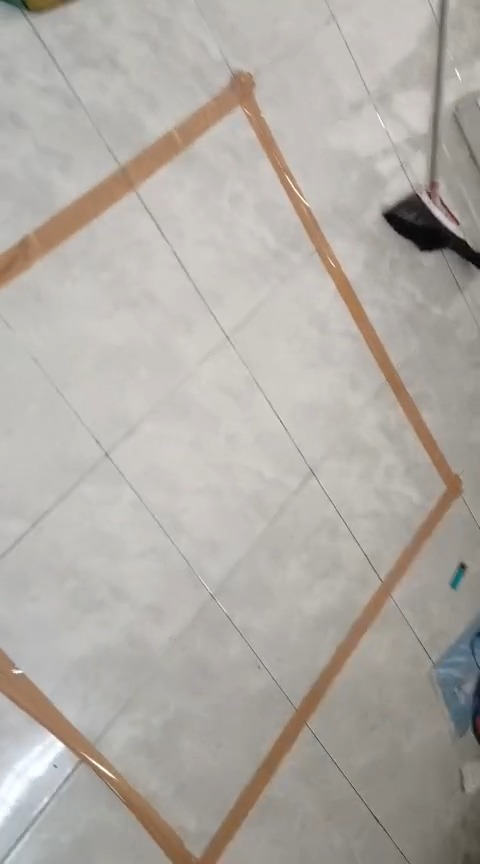floor marking: (0, 73, 460, 863)
